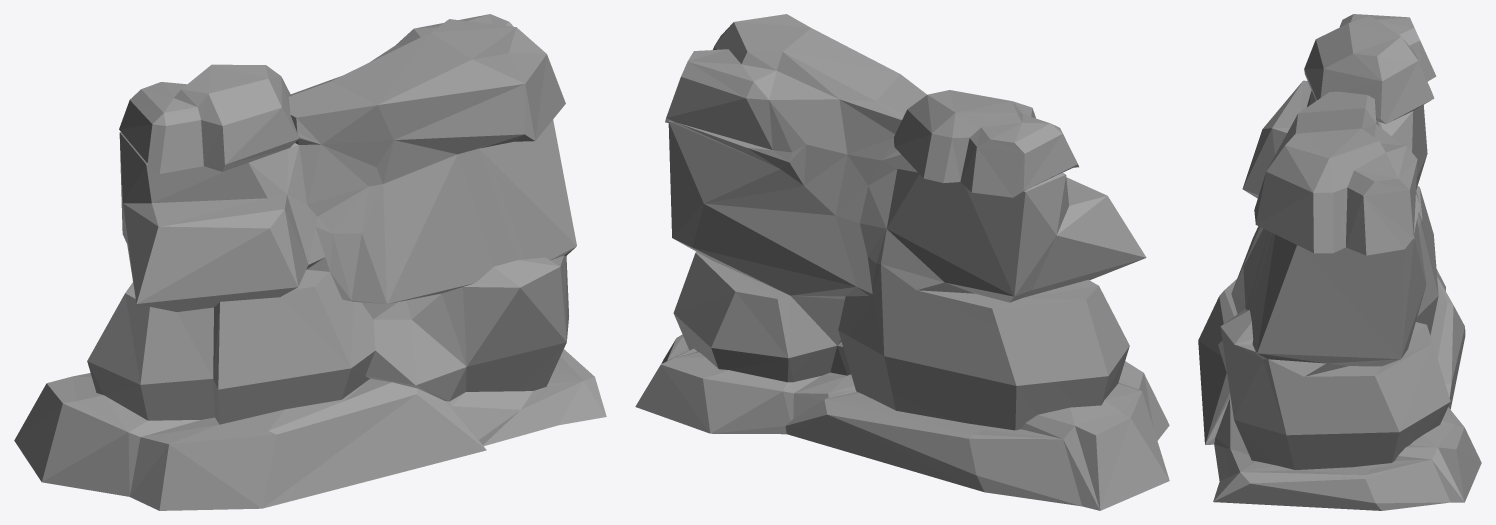
File: rock__rockform_wall_short1_light.glb
3 views of the same model, side by side, from view 1: azimuth 30°, elevation 25°; view 2: azimuth 150°, elevation 25°; view 3: azimuth 270°, elevation 25° (orthographic). The views are drawn at different scales.
Parts seen in each view (by area): view 1: rockform.wall.short1.light; view 2: rockform.wall.short1.light; view 3: rockform.wall.short1.light.
Boxes of the visible parts, x1,y1,x2,y2 form: rockform.wall.short1.light: (14,14,606,510); rockform.wall.short1.light: (635,14,1169,510); rockform.wall.short1.light: (1198,14,1481,510).
Size of the model in its own units: 22.98 by 15.12 by 11.75.
1 material, 1 textured.
